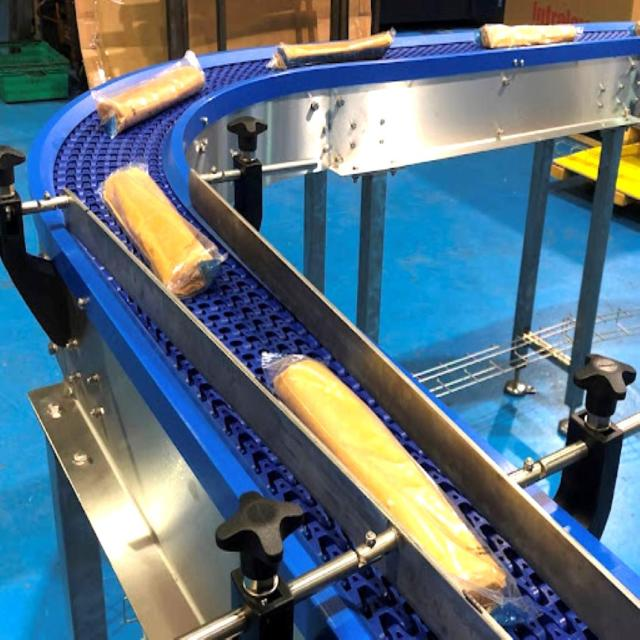food: (259, 348, 522, 618), (100, 163, 227, 300), (90, 48, 206, 140)
